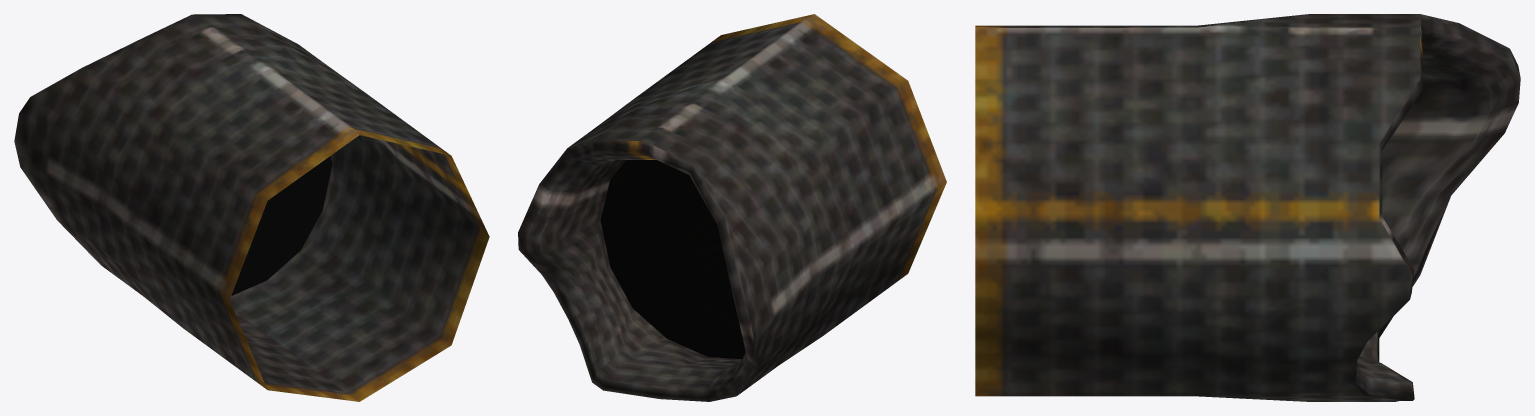
Rendered from cable_power_thick_severed.dae.
3 renders of one model, left to right at view 1: azimuth 30°, elevation 25°; view 2: azimuth 150°, elevation 25°; view 3: azimuth 270°, elevation 25°, orthographic. The views are drawn at different scales.
Visible parts, largest first — view 1: Mesh; view 2: Mesh; view 3: Mesh.
Part boxes in pixels (x1=…): Mesh: x1=14, y1=14, x2=489, y2=401; Mesh: x1=518, y1=14, x2=946, y2=401; Mesh: x1=975, y1=14, x2=1520, y2=401.
Bounding box in the file's own units: 0.2078 × 0.1954 × 0.2724.
